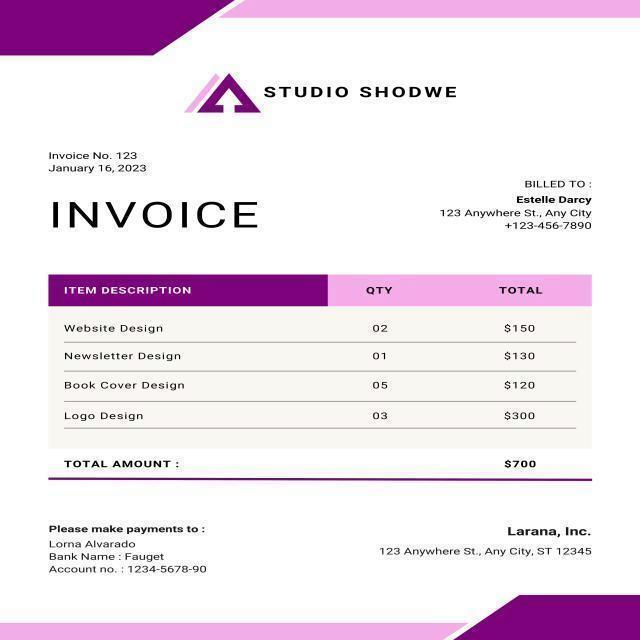paragraph: (177, 63, 467, 122), (39, 514, 215, 579), (371, 520, 601, 565), (438, 174, 598, 234), (57, 453, 542, 472), (46, 196, 263, 232), (44, 147, 154, 176)
table: (49, 274, 574, 428)
